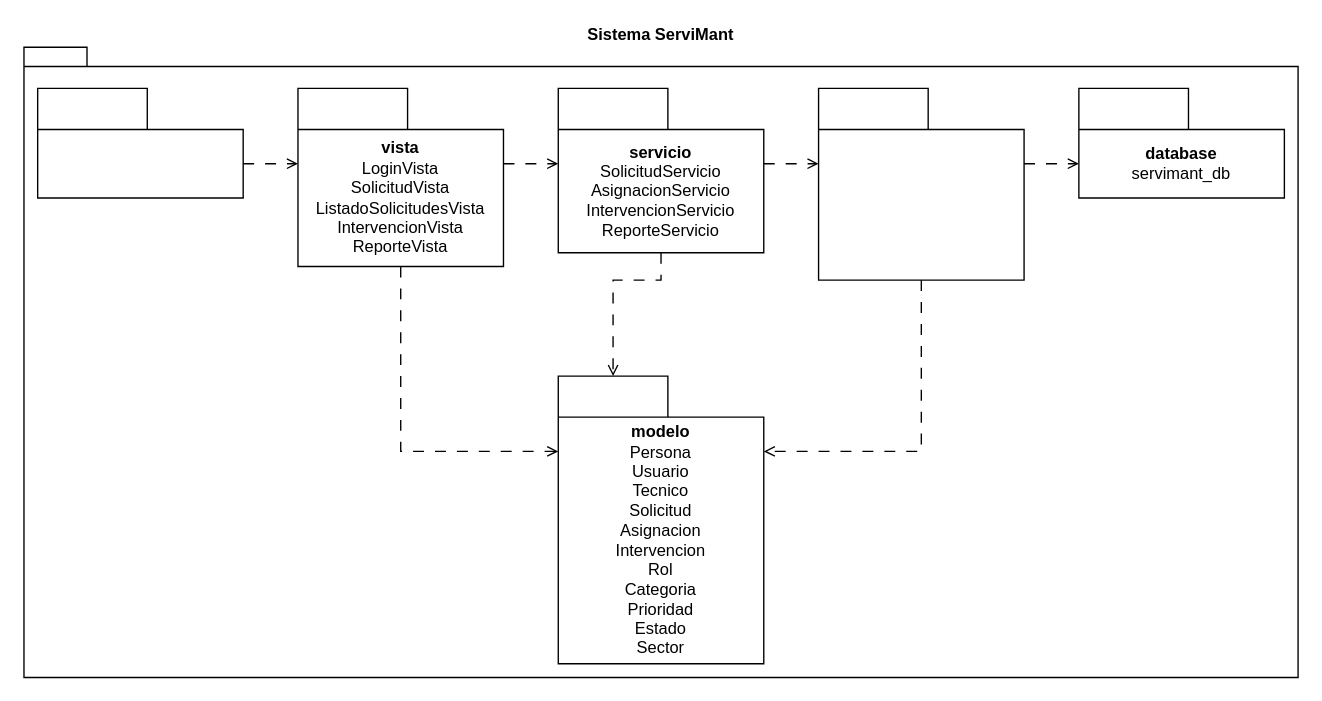
The diagram is 1322 pixels wide and 701 high, and some of its shapes have lost their labels. The shapes that lost their labels are listed below. From the top down, each one's centre as x and y in pixels, then its label:
At point (139, 142): "principal Main".
At point (920, 183): "dao ConexionBD UsuarioDAO SolicitudDAO TecnicoDAO IntervencionDAO".
